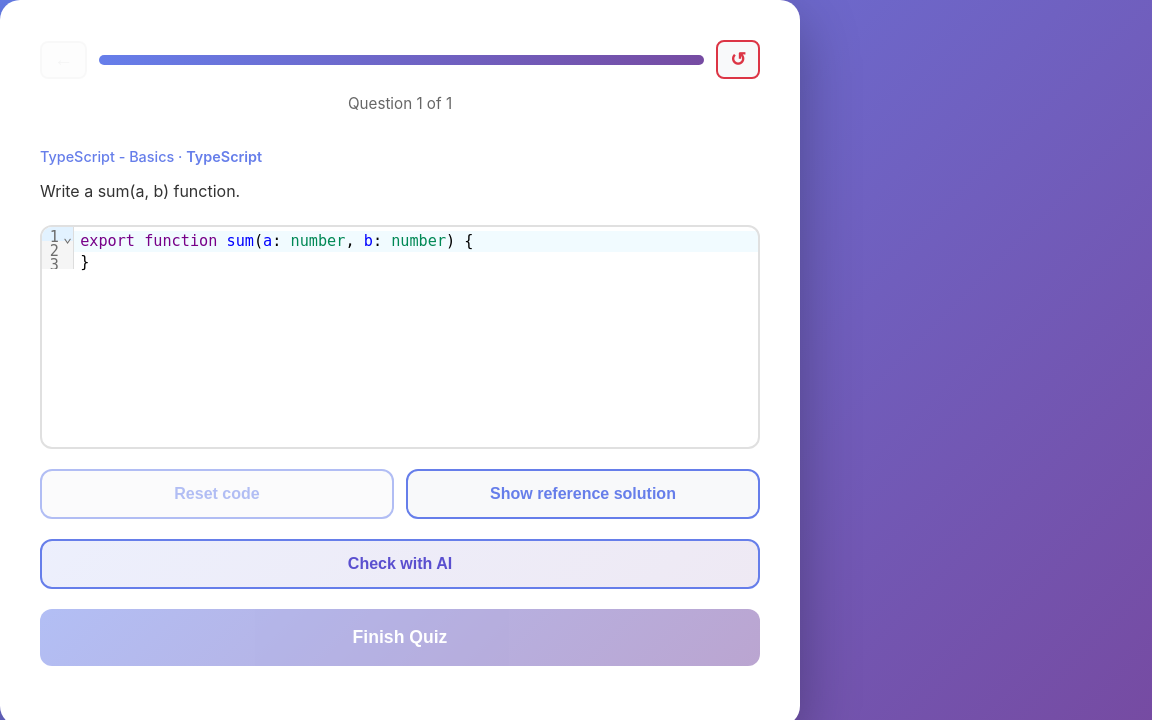
Scenario: QuizScreen - coding tasks › reveals the reference solution and rubric on demand
Expected: the text "Returns a + b" is not shown
Click the button "Show reference solution": (583,494) left=406, top=469, right=760, bottom=519
(page scrolled)
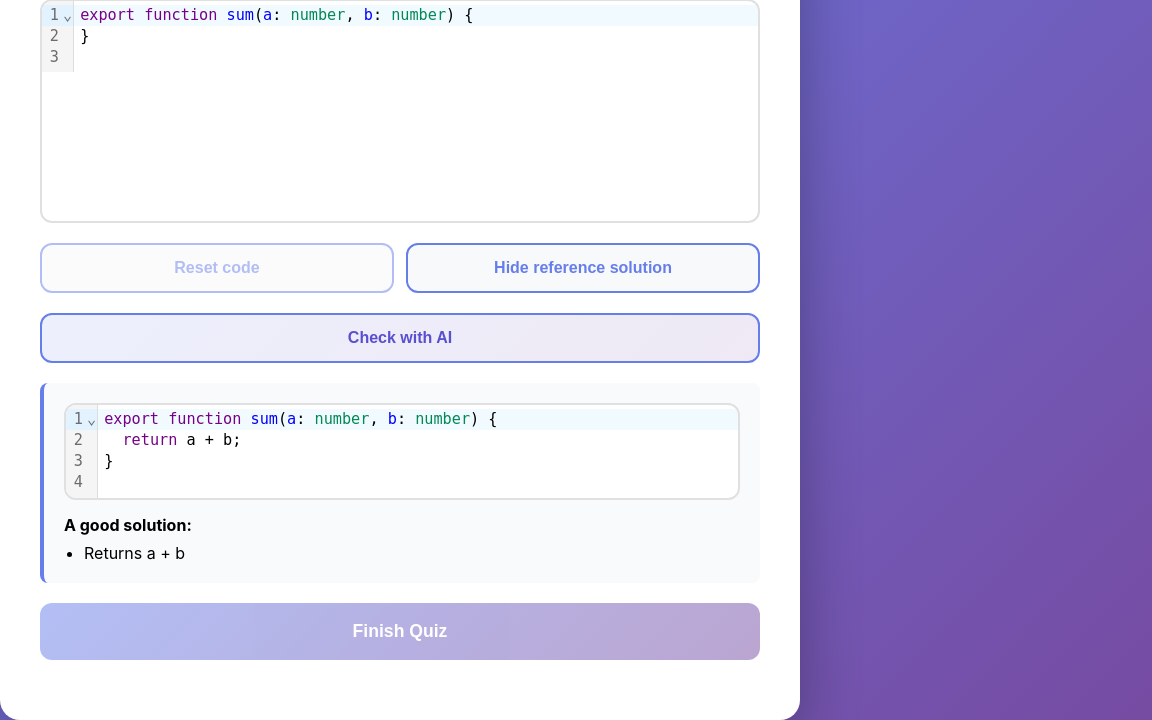
Expected: the field named "Reference solution" shows "return a + b;", left=98, top=405, right=738, bottom=498
Expected: the list item "Returns a + b" is shown, left=84, top=543, right=185, bottom=563
